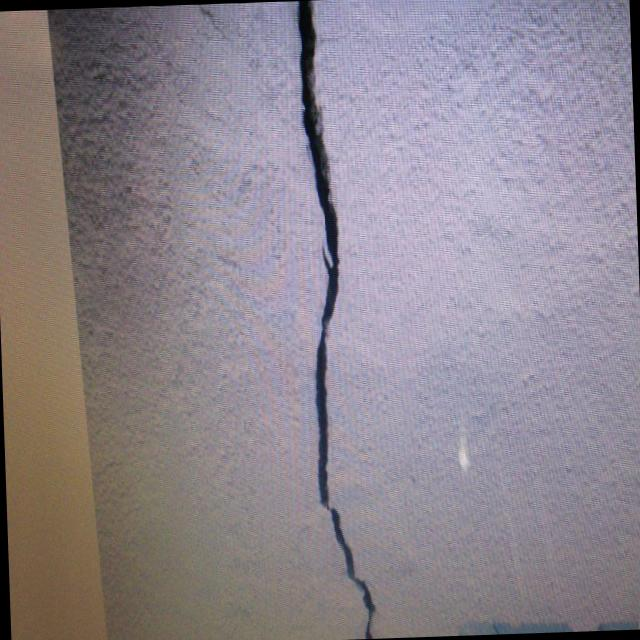crack: (294, 2, 374, 638)
